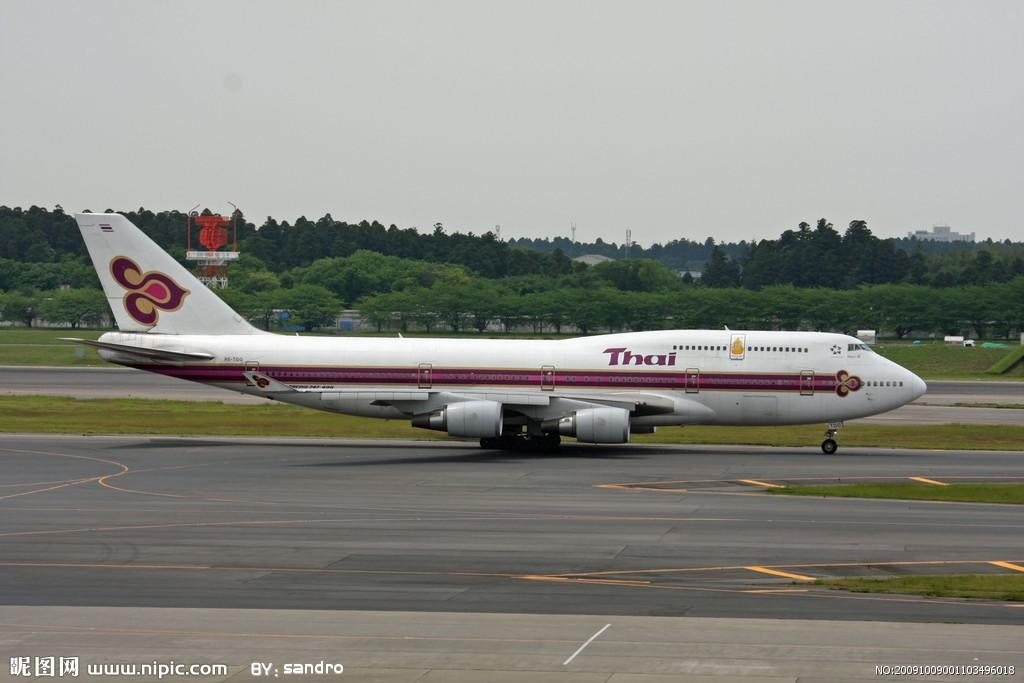airplane: (59, 198, 930, 460)
